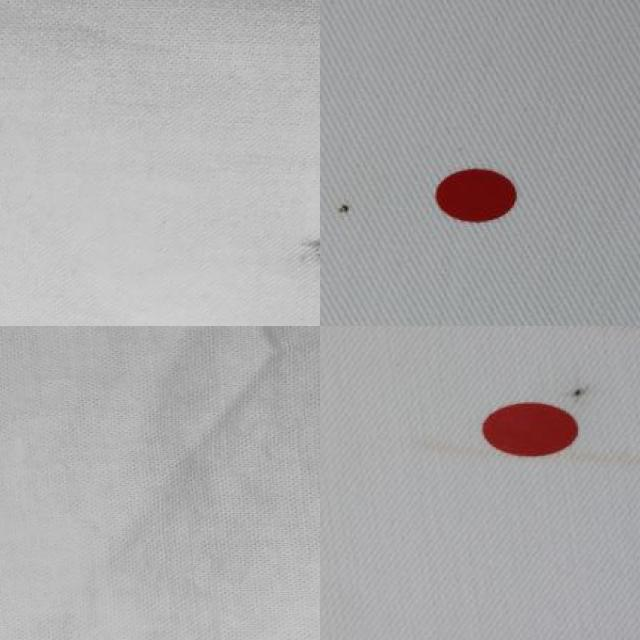Hole: (320, 174, 371, 246), (555, 342, 613, 401)
